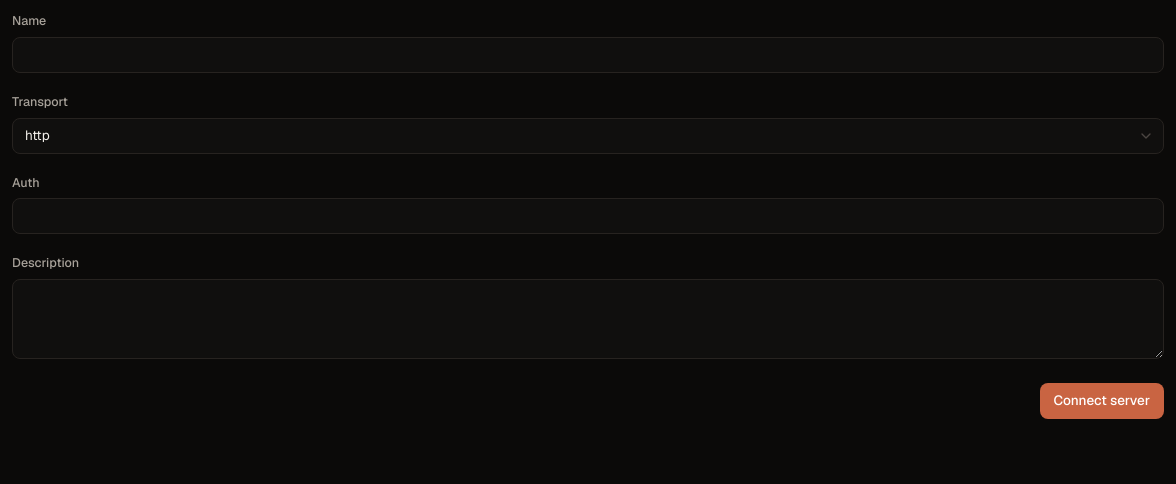
Test case: McpForm › blocks submission and shows an error when a required field is empty
Type "Bot token" into the field labelled "Auth" at (588, 216), box [12, 198, 1164, 234]
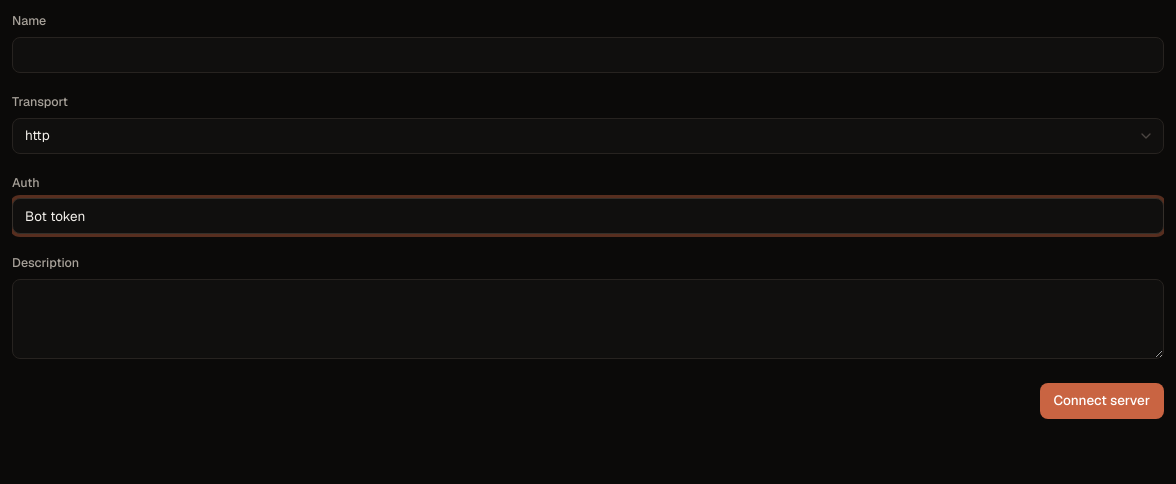
Click the button "Connect server" at (1102, 401), box [1040, 383, 1164, 419]
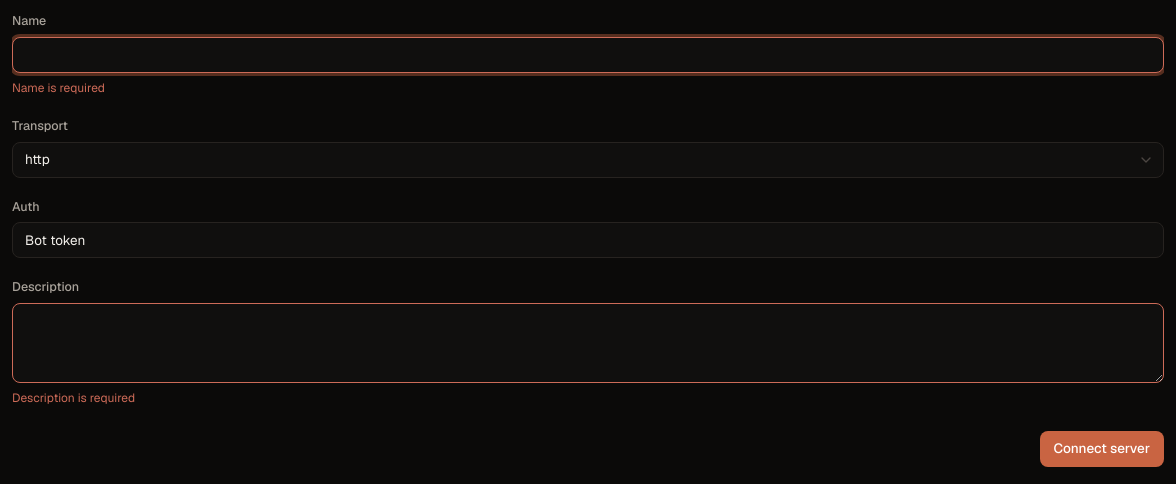
Expected: the text "Name is required" is shown, [12, 80, 105, 96]
